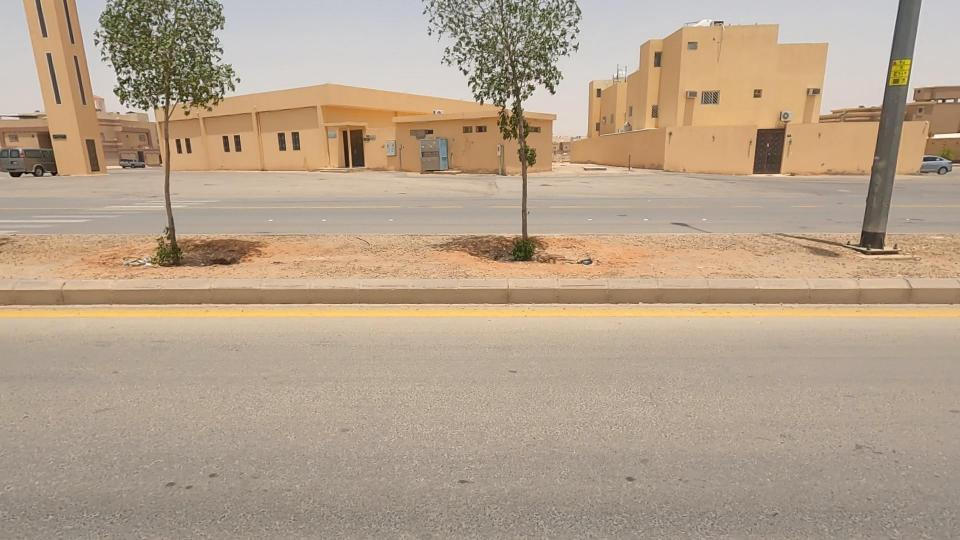GARBAGE: (73, 231, 209, 293), (539, 232, 632, 287)
